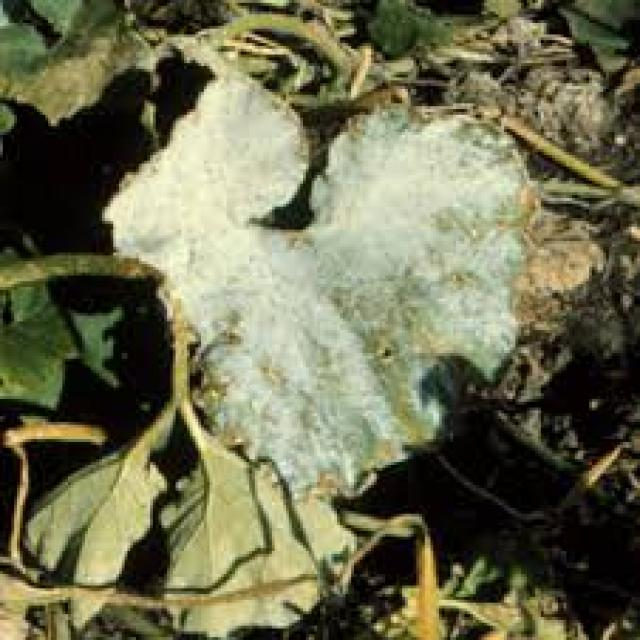powdery-mildew: (124, 81, 502, 474)
